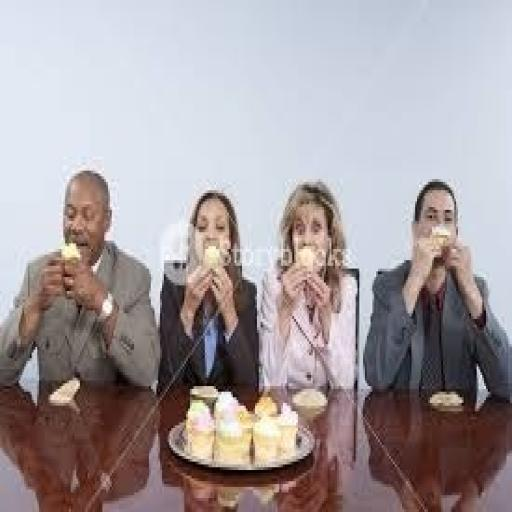eating: (0, 165, 162, 395), (361, 176, 510, 408), (255, 176, 359, 394), (156, 188, 259, 392)
